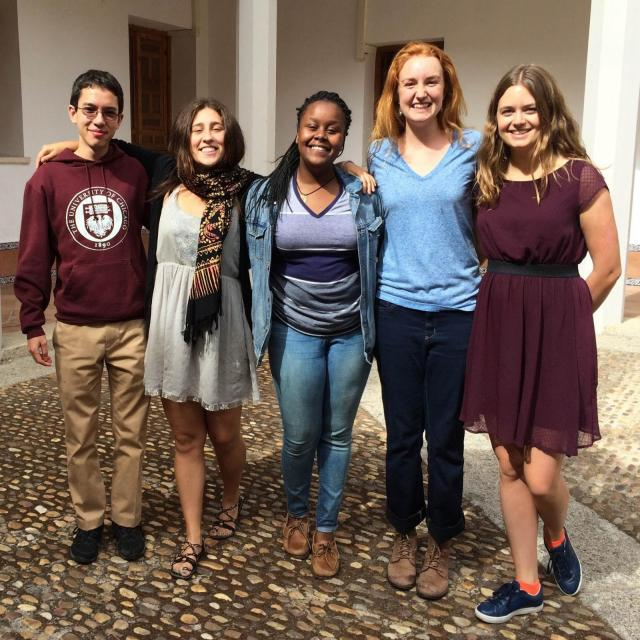body: (33, 94, 380, 580), (462, 62, 626, 628), (230, 86, 392, 586), (12, 68, 166, 568), (367, 37, 488, 602)
